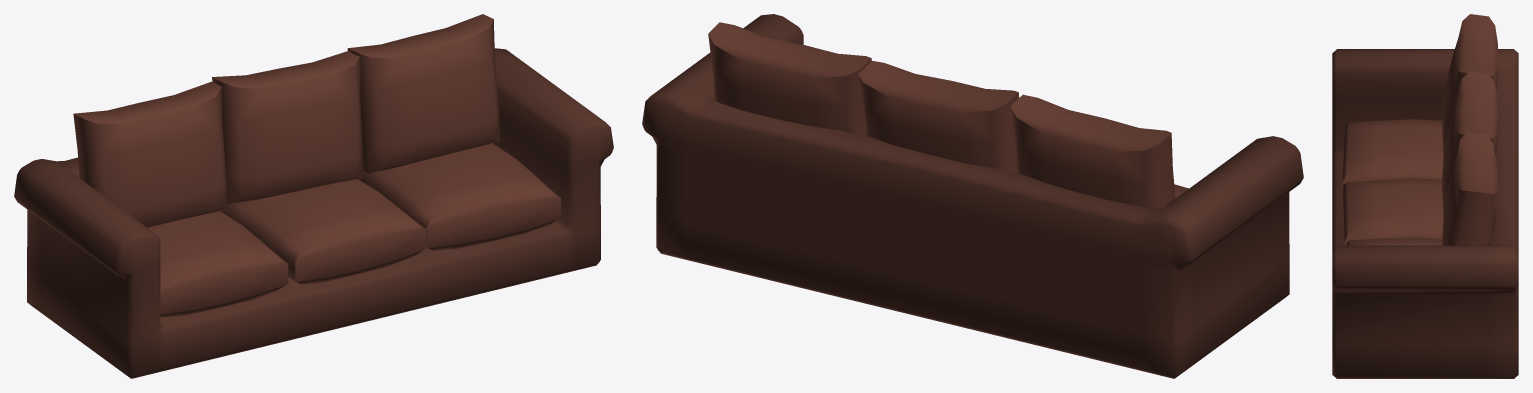
File: Red Couch.glb
3 renders of one model, left to right at view 1: azimuth 30°, elevation 25°; view 2: azimuth 150°, elevation 25°; view 3: azimuth 270°, elevation 25°, orthographic. The views are drawn at different scales.
Visible parts, largest first — view 1: Couch_Large1; view 2: Couch_Large1; view 3: Couch_Large1.
Part boxes in pixels (x1,y1,x2,y2): Couch_Large1: (14,14,613,378); Couch_Large1: (642,14,1303,378); Couch_Large1: (1332,14,1518,378).
Size of the model in its own units: 5.48 by 2.11 by 1.99.
